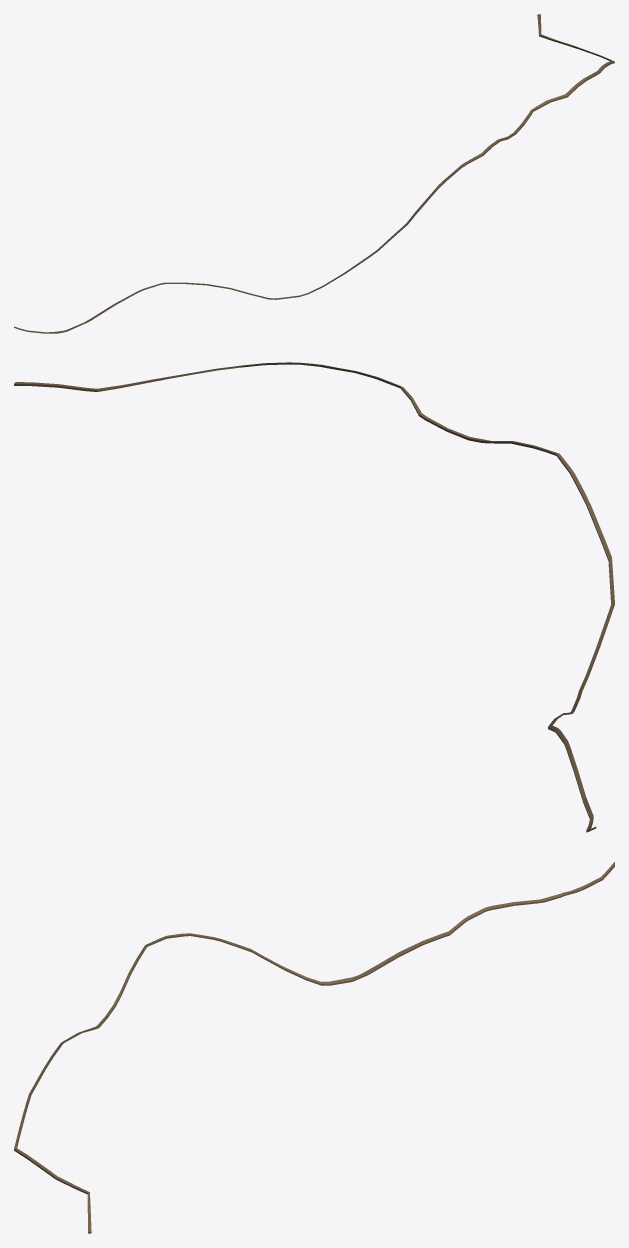
3 renders of one model, top to bottom at view 1: azimuth 90°, elevation 25°; view 2: azimuth 150°, elevation 25°; view 3: azimuth 270°, elevation 25°, orthographic. The views are drawn at different scales.
Bounding box in the file's own units: 348 × 43.92 × 259.
